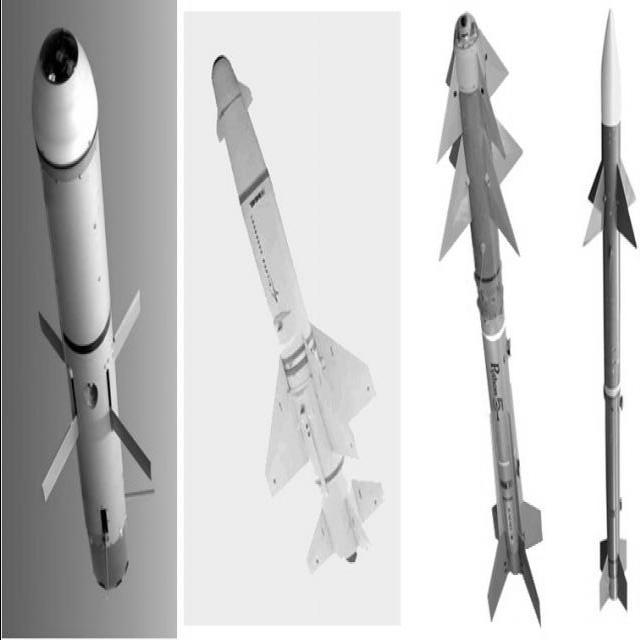missile: (400, 9, 558, 640), (15, 37, 164, 615), (574, 0, 640, 631)
